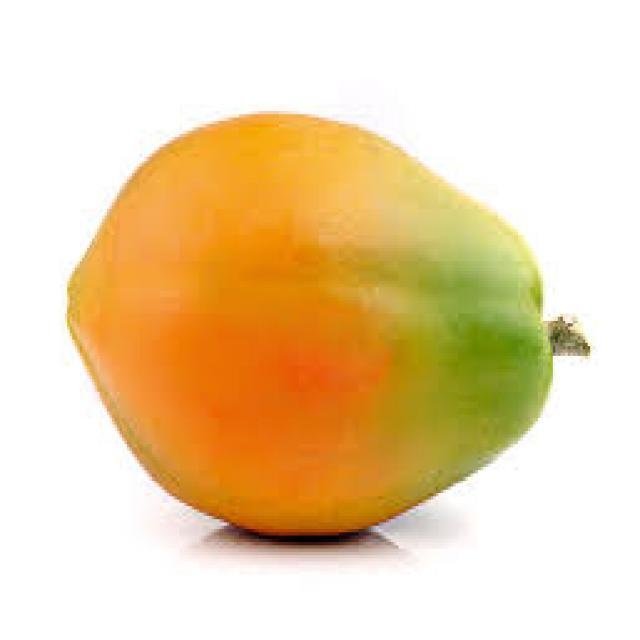Pepaya rippen: (62, 89, 597, 543)
